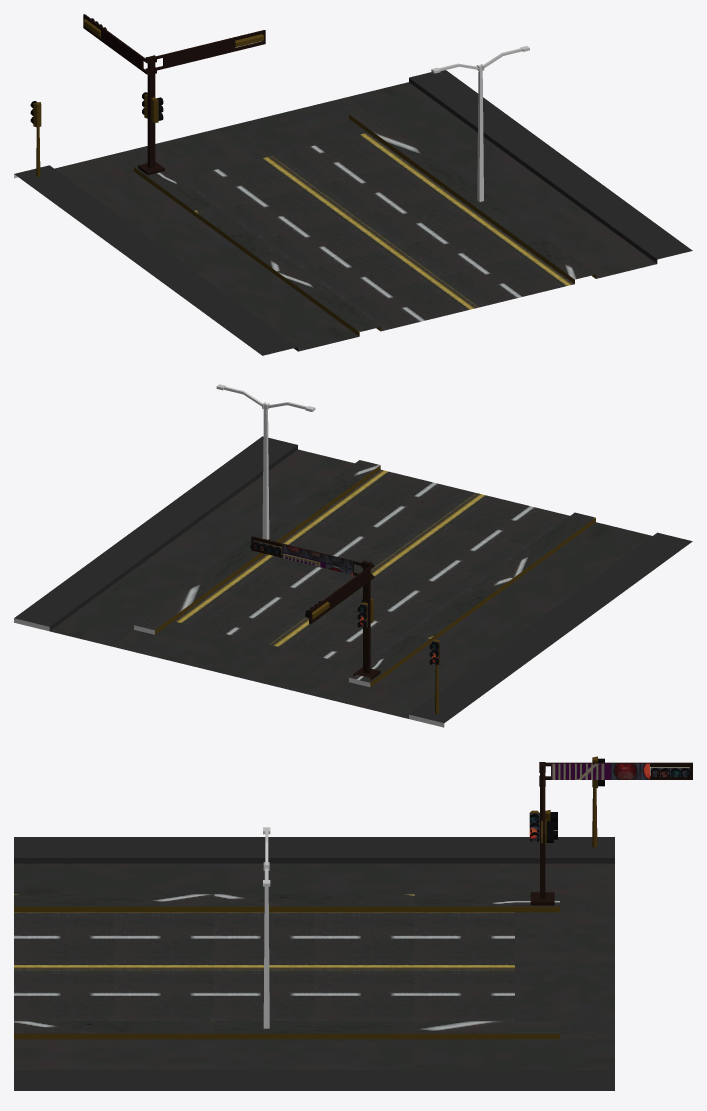
The model's file is blvd_kfcs.obj.
3 renders of one model, top to bottom at view 1: azimuth 30°, elevation 25°; view 2: azimuth 150°, elevation 25°; view 3: azimuth 270°, elevation 25°, orthographic. The views are drawn at different scales.
Parts seen in each view (by area): view 1: blvd_kfcs_Plane.010; view 2: blvd_kfcs_Plane.010; view 3: blvd_kfcs_Plane.010.
Part boxes in pixels (<box>): blvd_kfcs_Plane.010: <box>14,14,692,355</box>; blvd_kfcs_Plane.010: <box>14,384,692,727</box>; blvd_kfcs_Plane.010: <box>14,756,692,1090</box>.
Size of the model in its own units: 1.6 by 0.5207 by 1.81.
